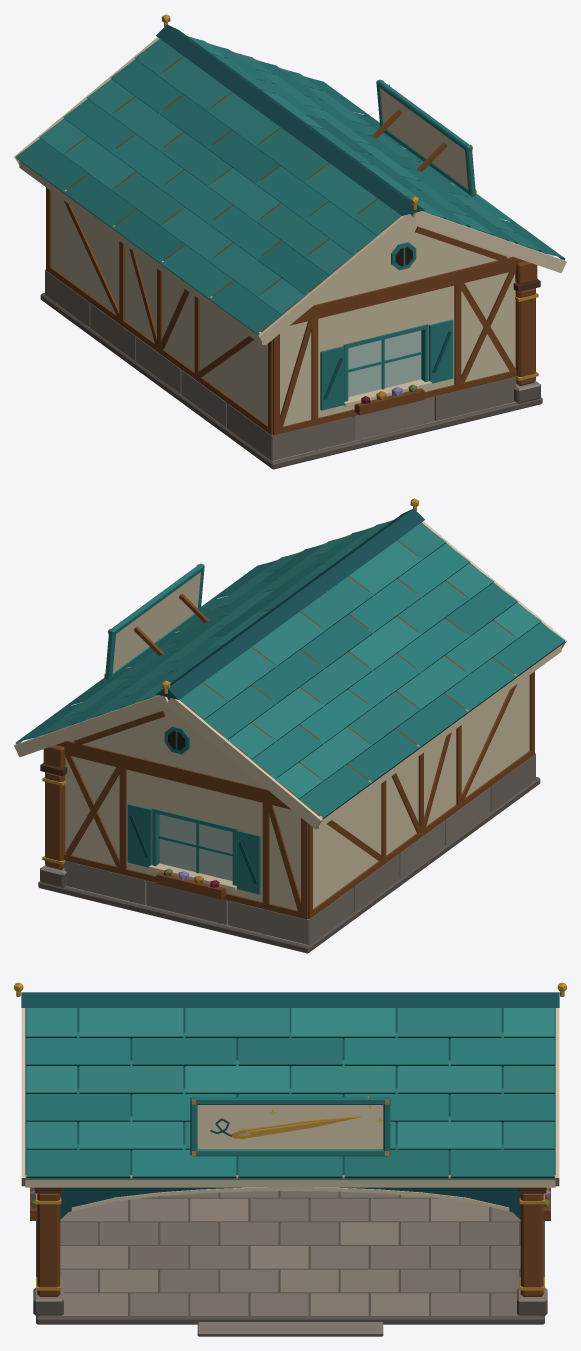
The model's file is workshop.glb.
3 views of the same model, one above another, from view 1: azimuth 30°, elevation 25°; view 2: azimuth 150°, elevation 25°; view 3: azimuth 270°, elevation 25° (orthographic). The views are drawn at different scales.
Parts seen in each view (by area): view 1: workshop; view 2: workshop; view 3: workshop.
Boxes of the visible parts, x1=… form: workshop: x1=14, y1=14, x2=566, y2=469; workshop: x1=14, y1=498, x2=566, y2=953; workshop: x1=14, y1=982, x2=566, y2=1336.
Size of the model in its own units: 7.21 by 5.45 by 10.11.
